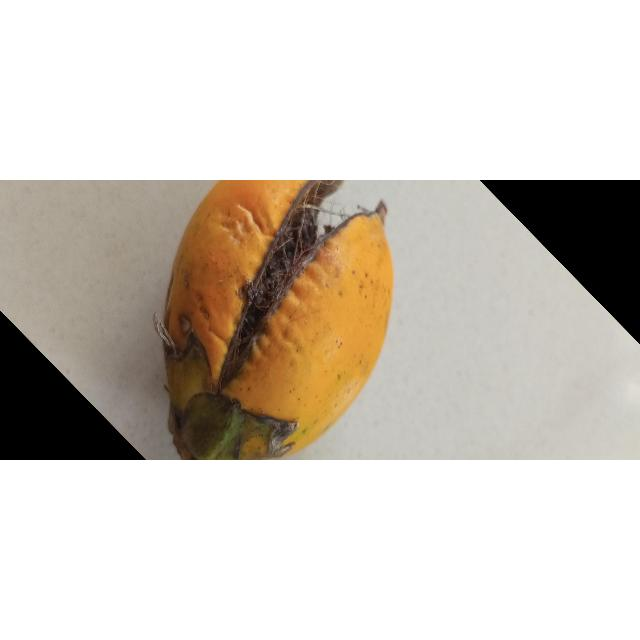damaged: (153, 180, 393, 461)
